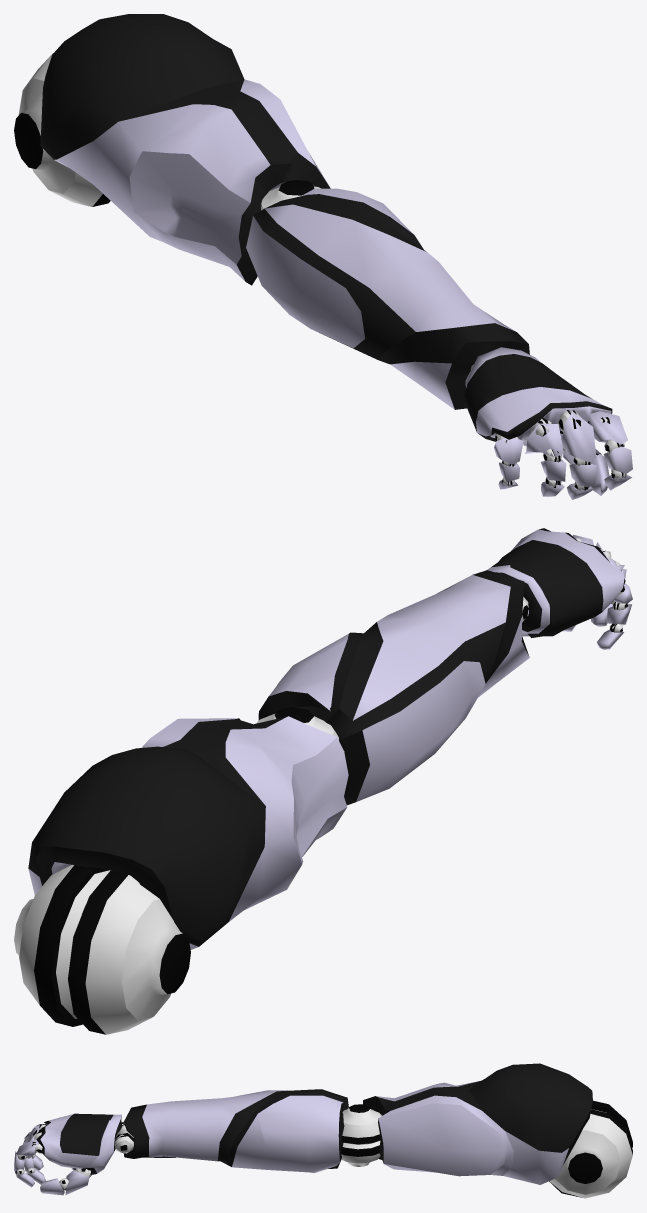
The model's file is vBotArms.fbx.
The picture shows the model from 3 angles, top to bottom: view 1: azimuth 30°, elevation 25°; view 2: azimuth 150°, elevation 25°; view 3: azimuth 270°, elevation 25°; orthographic projection. The views are drawn at different scales.
Visible parts, largest first — view 1: V_Bot.000, V_Bot.003, V_Bot.004, V_Bot.007, V_Bot.006, V_Bot.008, V_Bot.009; view 2: V_Bot.000, V_Bot.003, V_Bot.004, V_Bot.009; view 3: V_Bot.000, V_Bot.003, V_Bot.004, V_Bot.005, V_Bot.006, V_Bot.007, V_Bot.008.
Part boxes in pixels (<box>): V_Bot.000: <box>14,14,330,285</box>; V_Bot.003: <box>246,180,529,409</box>; V_Bot.004: <box>464,347,612,446</box>; V_Bot.007: <box>558,410,596,499</box>; V_Bot.006: <box>588,411,632,490</box>; V_Bot.008: <box>525,418,566,496</box>; V_Bot.009: <box>494,434,523,489</box>; V_Bot.000: <box>14,716,348,1034</box>; V_Bot.003: <box>256,570,529,805</box>; V_Bot.004: <box>487,528,625,637</box>; V_Bot.009: <box>597,583,632,649</box>; V_Bot.000: <box>363,1063,632,1198</box>; V_Bot.003: <box>123,1089,381,1173</box>; V_Bot.004: <box>36,1113,133,1174</box>; V_Bot.005: <box>40,1168,91,1195</box>; V_Bot.006: <box>14,1138,42,1187</box>; V_Bot.007: <box>24,1128,45,1184</box>; V_Bot.008: <box>23,1124,46,1170</box>.
Size of the model in its own units: 15.58 by 17.22 by 78.07.
